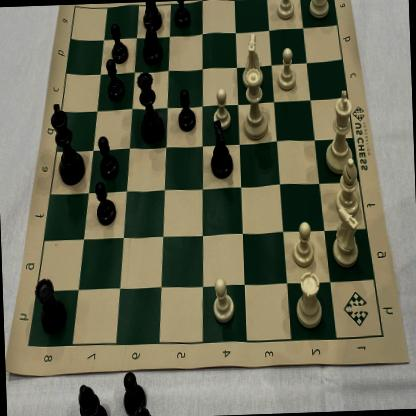black-king: (48, 98, 91, 188)
black-knight: (207, 118, 236, 182), (140, 7, 162, 65)
black-pawn: (96, 134, 120, 181), (94, 180, 118, 227), (107, 18, 130, 66), (176, 86, 200, 132), (104, 57, 126, 104), (172, 1, 193, 30)
black-queen: (135, 70, 168, 146)
black-rook: (32, 272, 68, 335), (139, 2, 164, 31)
white-bishop: (332, 156, 364, 218), (293, 271, 325, 332)
white-king: (322, 87, 358, 178)
white-knight: (328, 204, 364, 268), (240, 29, 265, 90)
white-pawn: (288, 218, 320, 270), (210, 273, 240, 325), (274, 44, 298, 93), (212, 86, 233, 134), (275, 0, 297, 22)
white-queen: (238, 68, 274, 143)
white-rook: (306, 0, 334, 21)
